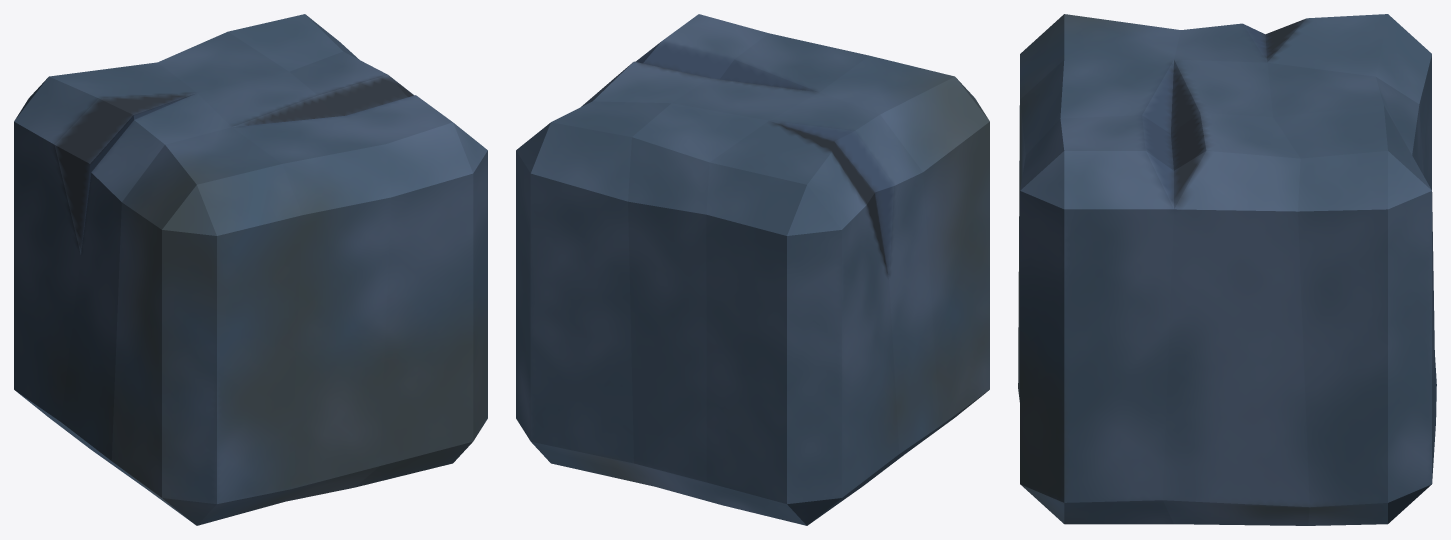
The model's file is Tetris_7.fbx.
The picture shows the model from 3 angles, left to right: view 1: azimuth 30°, elevation 25°; view 2: azimuth 150°, elevation 25°; view 3: azimuth 270°, elevation 25°; orthographic projection. The views are drawn at different scales.
Visible parts, largest first — view 1: Tetris_1.007; view 2: Tetris_1.007; view 3: Tetris_1.007.
Boxes of the visible parts, x1,y1,x2,y2 form: Tetris_1.007: (14,14,487,525); Tetris_1.007: (516,14,989,525); Tetris_1.007: (1018,14,1436,525).
Bounding box in the file's own units: 203 × 205 × 203.
